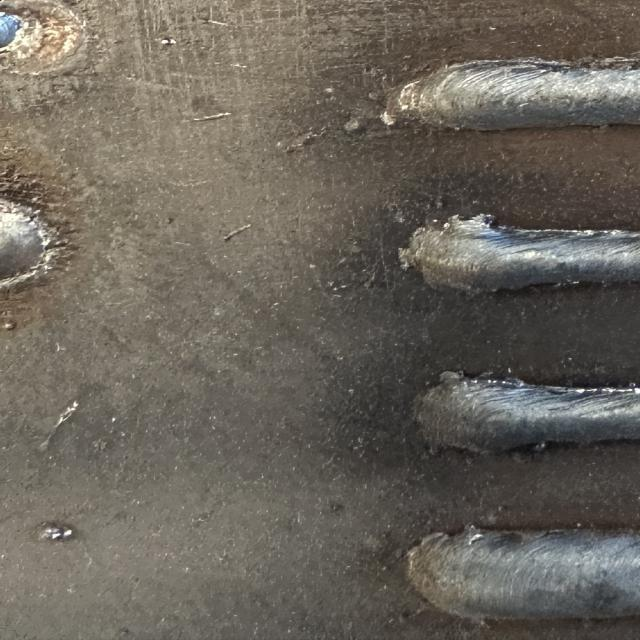Excess Reinforcement: (398, 225, 435, 269), (38, 221, 62, 253), (470, 214, 498, 228), (440, 371, 465, 385), (447, 215, 462, 224)
Spatters: (38, 522, 73, 541), (223, 224, 252, 241), (192, 112, 232, 121), (3, 320, 17, 330), (162, 38, 177, 45)
